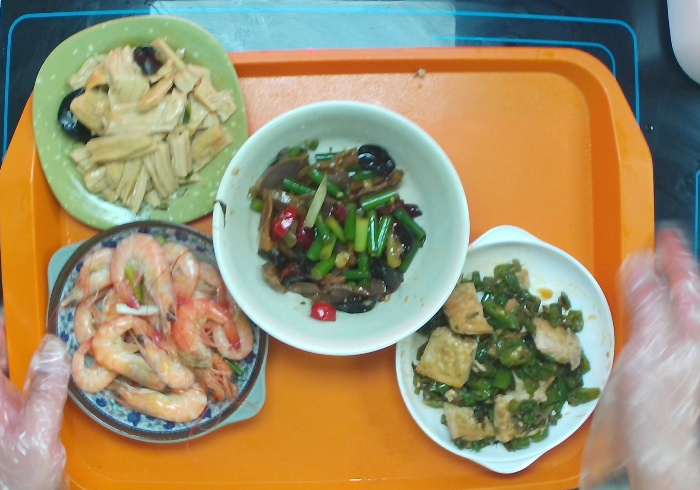NLDX-Bai_Se_Shuang_Er_Die: (391, 219, 616, 473)
NLDX-Bai_Se_Yuan_Wan: (208, 96, 470, 361)
NLDX-Lv_Hua_Fang_Die: (30, 13, 253, 226)
NLDX-Qing_Hua_Shuang_Er_Die: (37, 216, 271, 446)
